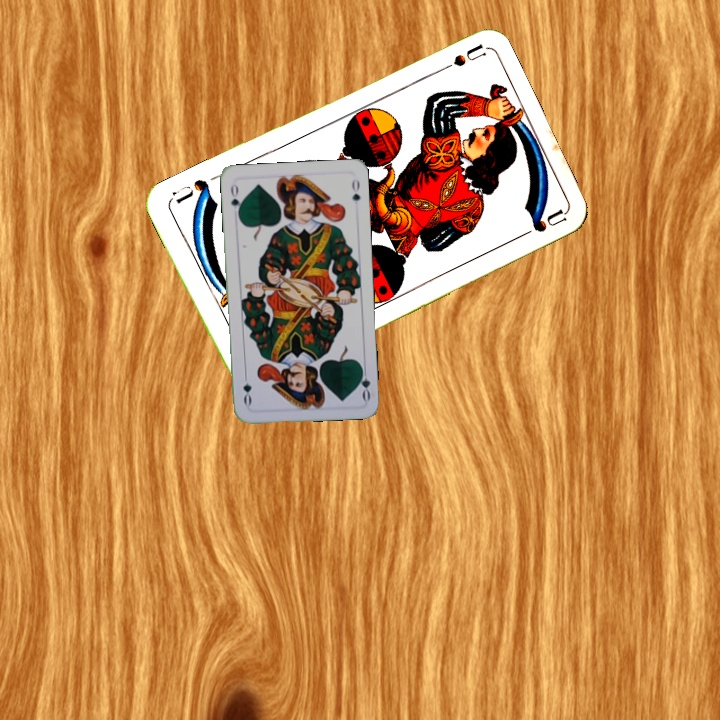GO: (354, 362, 373, 402), (227, 180, 244, 220)
SU: (429, 40, 487, 78)
